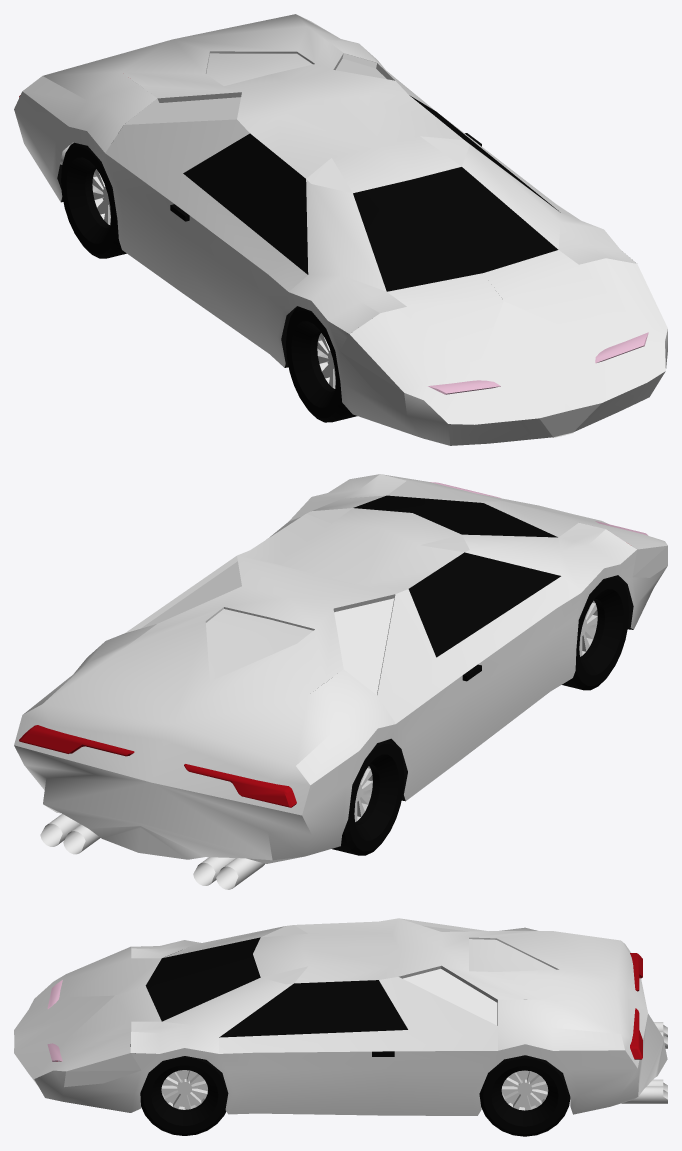
Rendered from Carro4.0.fbx.
3 views of the same model, one above another, from view 1: azimuth 30°, elevation 25°; view 2: azimuth 150°, elevation 25°; view 3: azimuth 270°, elevation 25° (orthographic). The views are drawn at different scales.
Parts seen in each view (by area): view 1: Circle; view 2: Circle; view 3: Circle.
Boxes of the visible parts, x1=… form: Circle: x1=14, y1=14, x2=667, y2=445; Circle: x1=14, y1=474, x2=667, y2=889; Circle: x1=14, y1=918, x2=667, y2=1136.
Size of the model in its own units: 600 by 351 by 1514.
